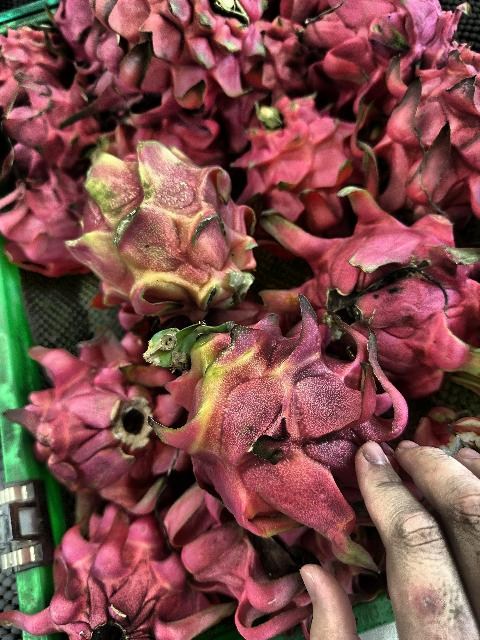buah-naga-belum-matang: (163, 309, 420, 536), (61, 137, 260, 319)
buah-naga-matang: (244, 180, 480, 390), (158, 486, 376, 640), (2, 323, 162, 502), (16, 490, 192, 640), (368, 45, 480, 209), (90, 0, 262, 101), (234, 94, 362, 218), (1, 74, 119, 174), (306, 0, 444, 84), (236, 10, 324, 100), (0, 164, 84, 256), (1, 28, 74, 84)
